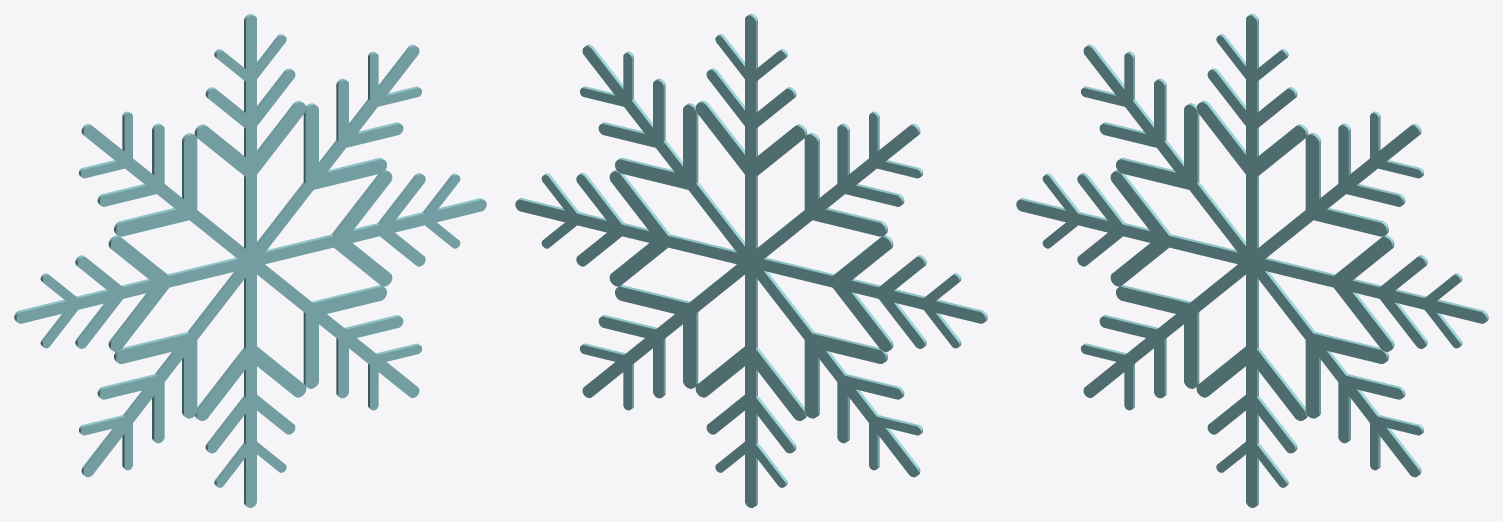
File: ChristmasPackButton.fbx
3 views of the same model, side by side, from view 1: azimuth 30°, elevation 25°; view 2: azimuth 150°, elevation 25°; view 3: azimuth 330°, elevation 25° (orthographic).
Visible parts, largest first — view 1: ChristmasPackButton; view 2: ChristmasPackButton; view 3: ChristmasPackButton.
Boxes of the visible parts, <box> form: ChristmasPackButton: <box>14,14,486,507</box>; ChristmasPackButton: <box>515,14,987,507</box>; ChristmasPackButton: <box>1016,14,1488,507</box>.
Bounding box in the file's own units: 72.61 × 72.61 × 0.587.
